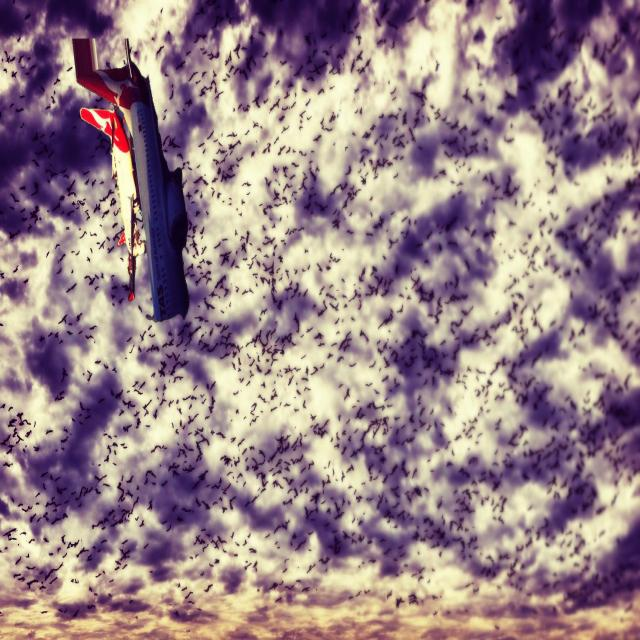airplane: (70, 35, 190, 322)
